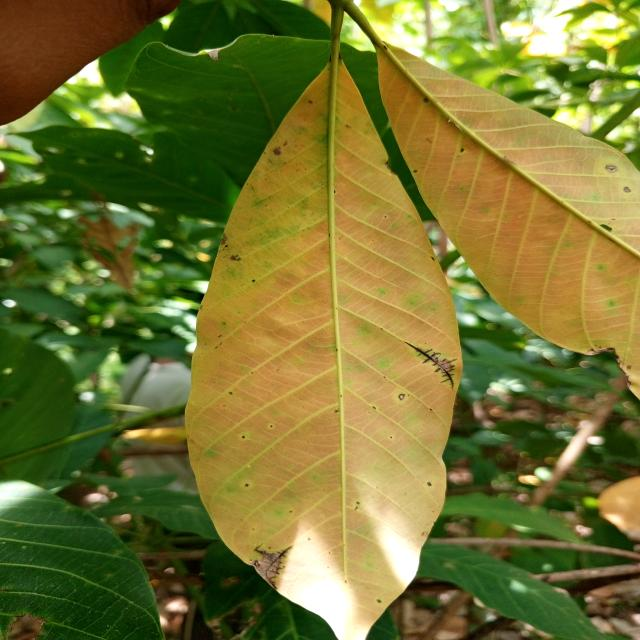Colletotrichum: (606, 165, 617, 173), (398, 394, 404, 399), (624, 187, 630, 192), (427, 482, 431, 486), (460, 148, 464, 152)
Corynespora: (403, 340, 458, 390), (251, 543, 292, 590)
